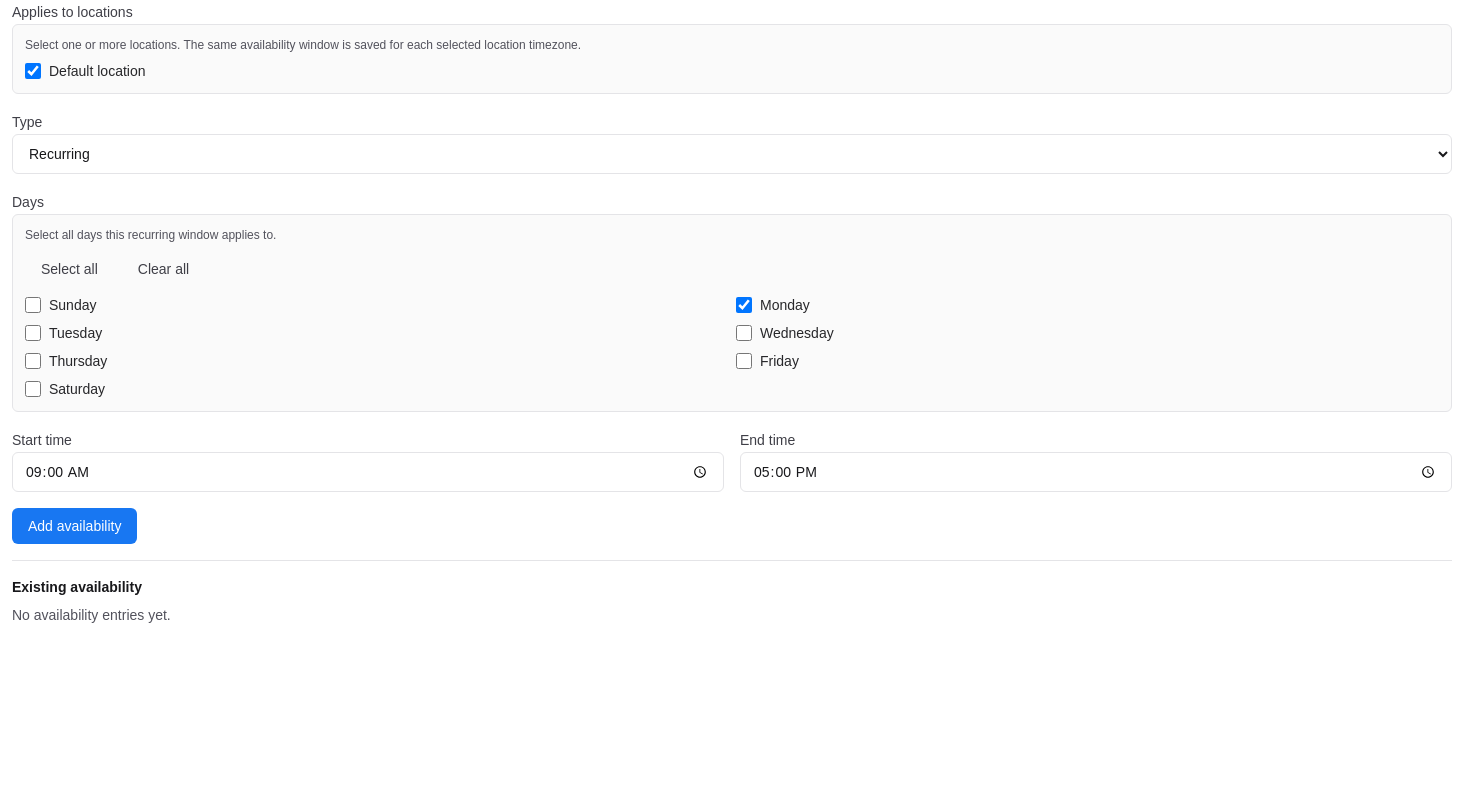
Test: AvailabilityForm › switches to exception fields
Select "Exception" in the dropdown with id "availability-type" at (732, 154), box [12,134,1452,174]
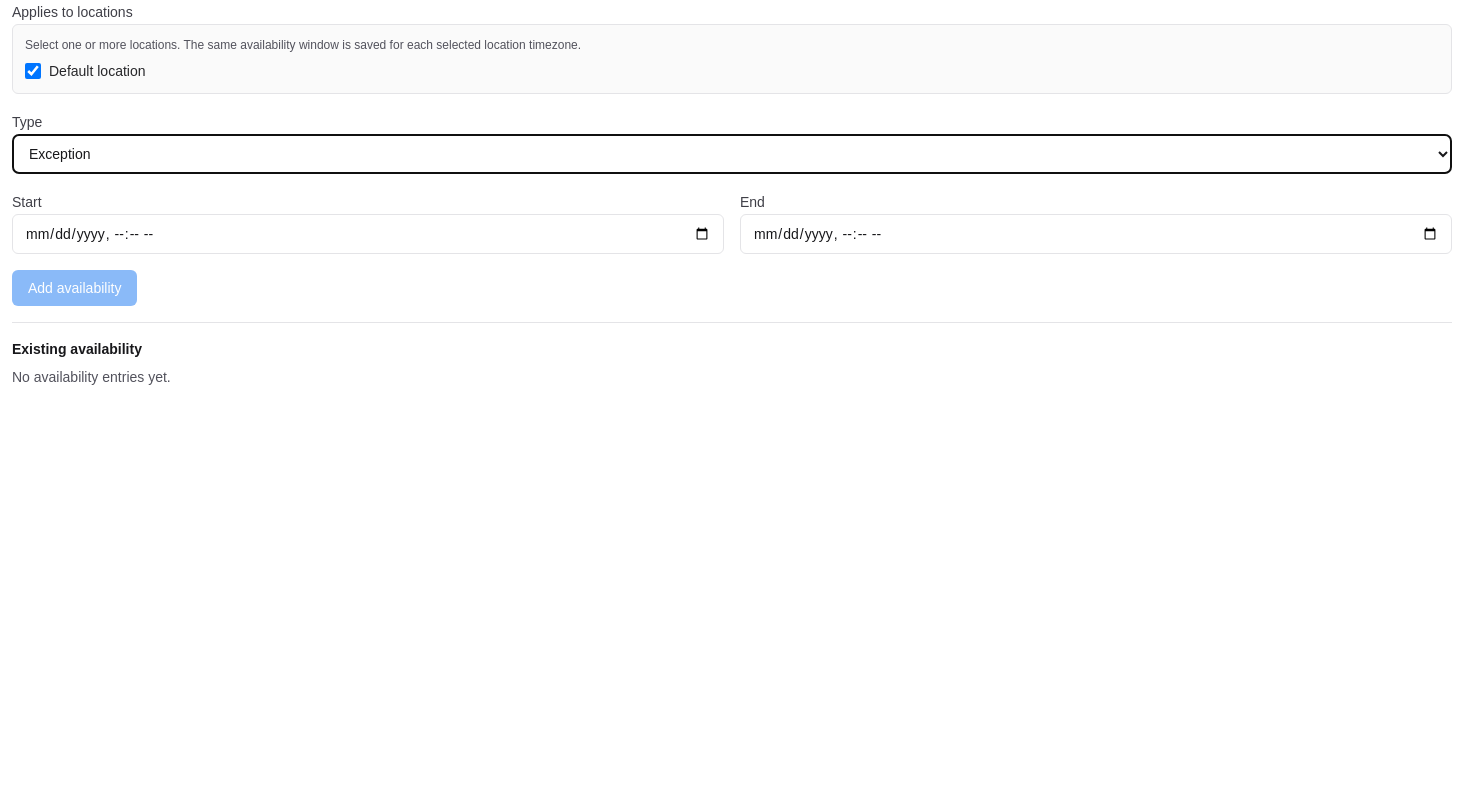
Now the field with id "availability-exception-start" is shown, box [12,214,724,254]
Now the field with id "availability-exception-end" is shown, box [740,214,1452,254]
